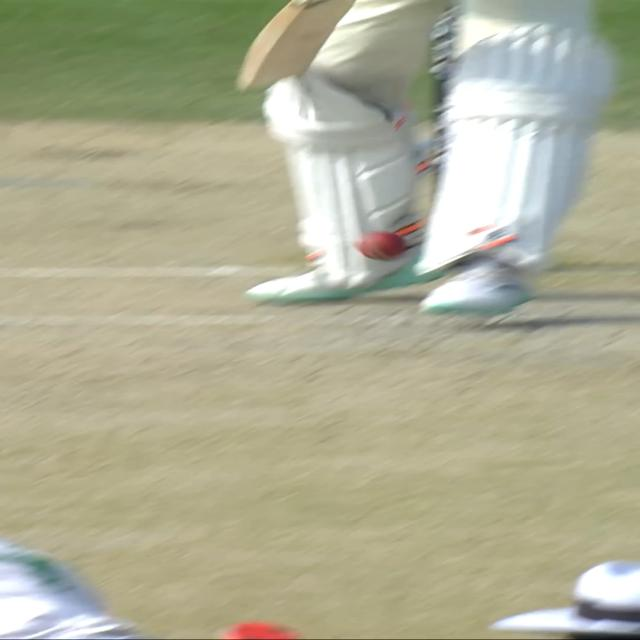Cricket ball: (355, 230, 409, 262)
